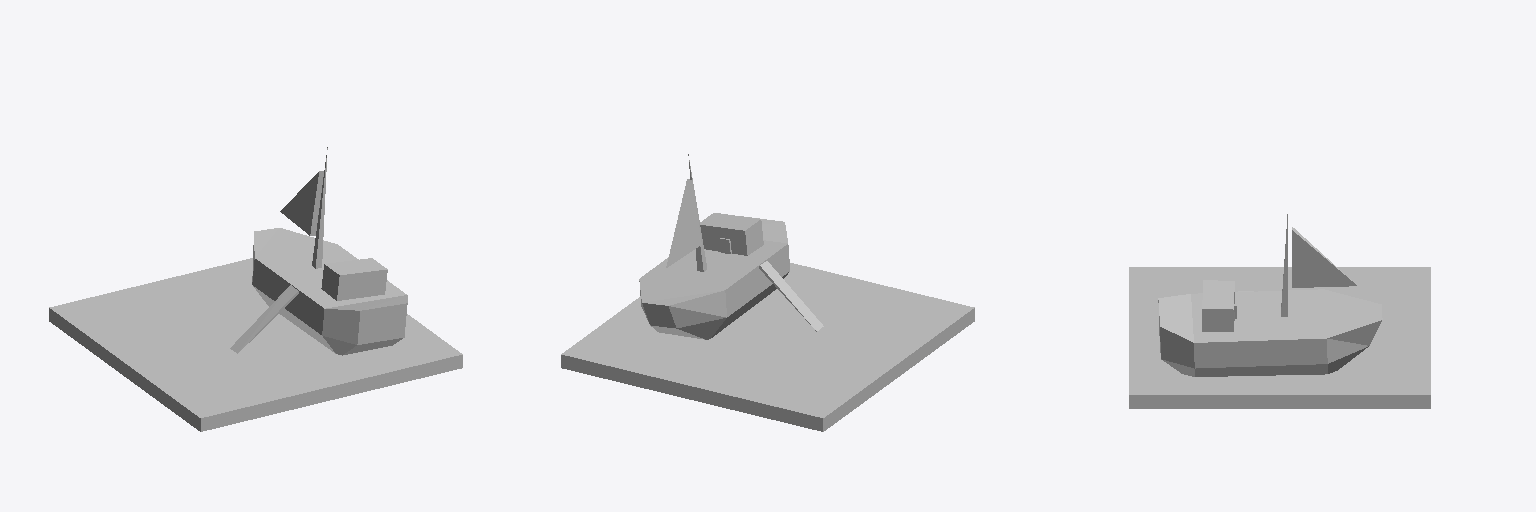
The model's file is ship.obj.
3 views of the same model, side by side, from view 1: azimuth 30°, elevation 25°; view 2: azimuth 150°, elevation 25°; view 3: azimuth 270°, elevation 25° (orthographic).
Visible parts, largest first — view 1: ship; view 2: ship; view 3: ship.
Part boxes in pixels (left/top/right/bottom): ship: left=49, top=147, right=462, bottom=431; ship: left=561, top=154, right=974, bottom=431; ship: left=1129, top=214, right=1430, bottom=408.
Bounding box in the file's own units: 40 × 25.86 × 40.